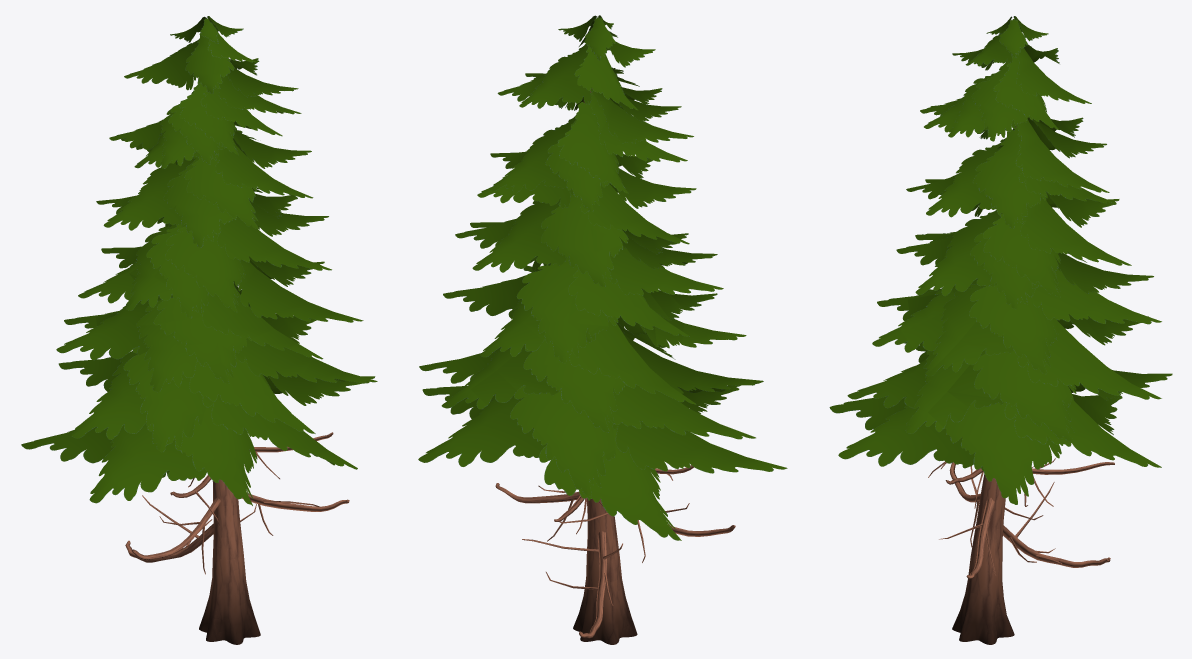
The model's file is tree_pine_4.glb.
3 views of the same model, side by side, from view 1: azimuth 30°, elevation 25°; view 2: azimuth 150°, elevation 25°; view 3: azimuth 270°, elevation 25° (orthographic). The views are drawn at different scales.
Parts seen in each view (by area): view 1: Pine_4; view 2: Pine_4; view 3: Pine_4.
Part boxes in pixels (bbox=[...]): Pine_4: bbox=[21, 16, 377, 644]; Pine_4: bbox=[418, 15, 787, 644]; Pine_4: bbox=[829, 16, 1172, 644].
Size of the model in its own units: 5.8 by 10.24 by 5.37.
Materials: 2 (2 with a texture image).
